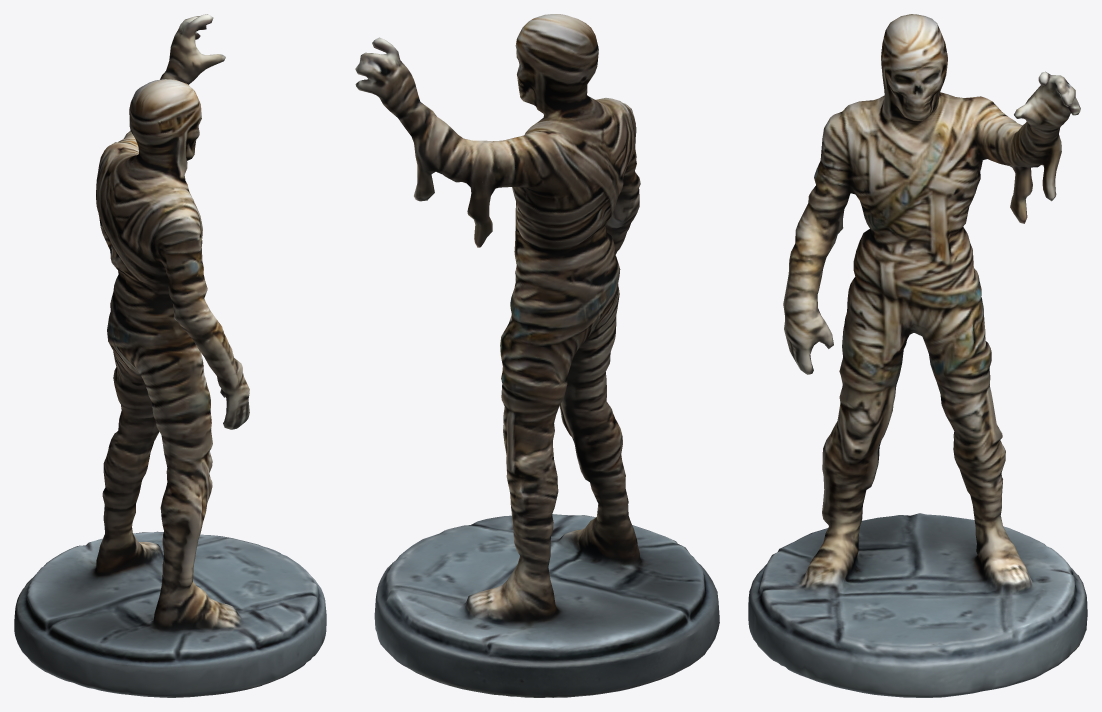
The model's file is mummy.glb.
3 views of the same model, side by side, from view 1: azimuth 30°, elevation 25°; view 2: azimuth 150°, elevation 25°; view 3: azimuth 270°, elevation 25° (orthographic). The views are drawn at different scales.
Parts seen in each view (by area): view 1: lagrange_node; view 2: lagrange_node; view 3: lagrange_node.
Boxes of the visible parts, <box> form: lagrange_node: <box>14,14,326,697</box>; lagrange_node: <box>355,14,719,697</box>; lagrange_node: <box>748,14,1087,697</box>.
Size of the model in its own units: 1.04 by 2.02 by 1.02.
1 material, 1 textured.
